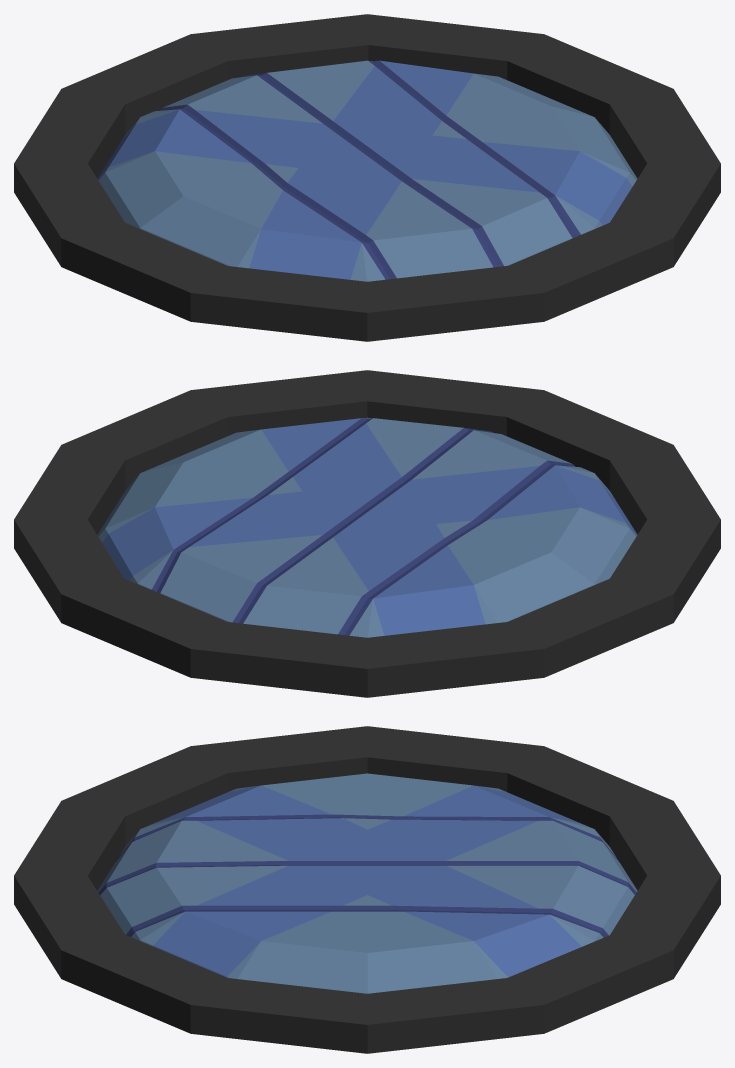
Rendered from F_Shield_B_Blue.fbx.
The picture shows the model from 3 angles, top to bottom: view 1: azimuth 30°, elevation 25°; view 2: azimuth 150°, elevation 25°; view 3: azimuth 270°, elevation 25°; orthographic projection.
Parts seen in each view (by area): view 1: F_Shield_B_Blue; view 2: F_Shield_B_Blue; view 3: F_Shield_B_Blue.
Part boxes in pixels (x1=…): F_Shield_B_Blue: x1=14, y1=14, x2=720, y2=341; F_Shield_B_Blue: x1=14, y1=370, x2=720, y2=697; F_Shield_B_Blue: x1=14, y1=726, x2=720, y2=1053.
Size of the model in its own units: 75.7 by 7.63 by 75.7.
